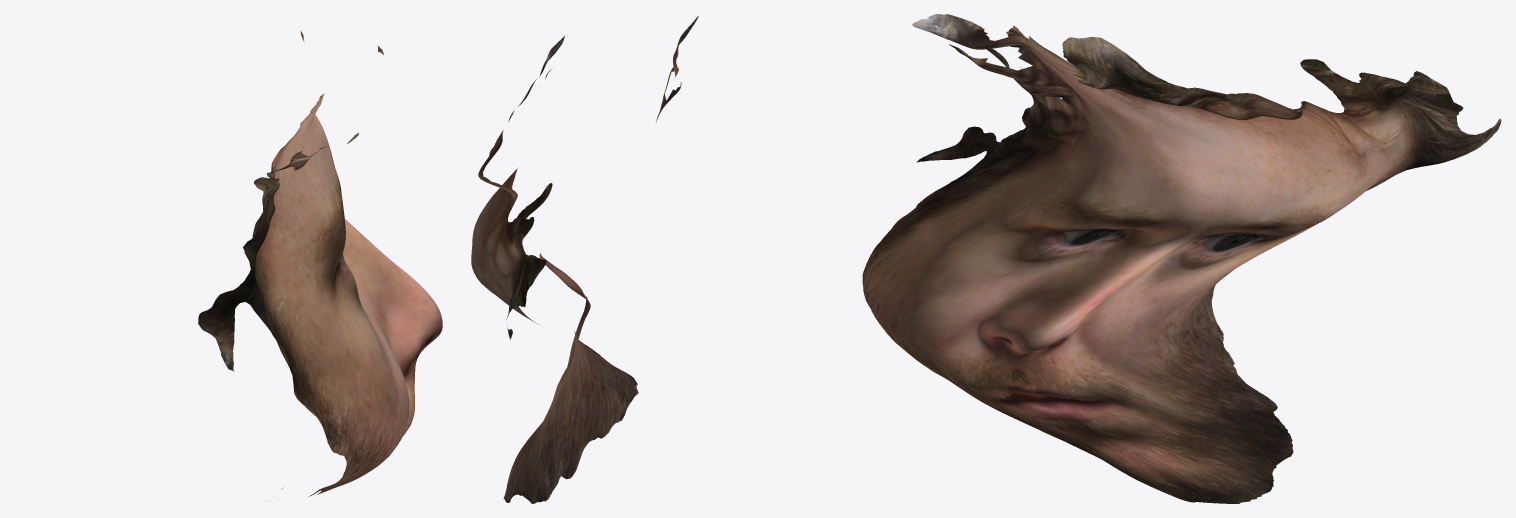
The model's file is dan.gltf.
The picture shows the model from 3 angles, left to right: view 1: azimuth 30°, elevation 25°; view 2: azimuth 150°, elevation 25°; view 3: azimuth 270°, elevation 25°; orthographic projection. The views are drawn at different scales.
Visible parts, largest first — view 1: head3d:Mesh; view 2: head3d:Mesh; view 3: head3d:Mesh.
Boxes of the visible parts, bbox=[...] form: head3d:Mesh: bbox=[198, 31, 442, 501]; head3d:Mesh: bbox=[471, 16, 698, 503]; head3d:Mesh: bbox=[862, 14, 1501, 503].
Size of the model in its own units: 0.1371 by 0.2268 by 0.2769.
1 material, 1 textured.
